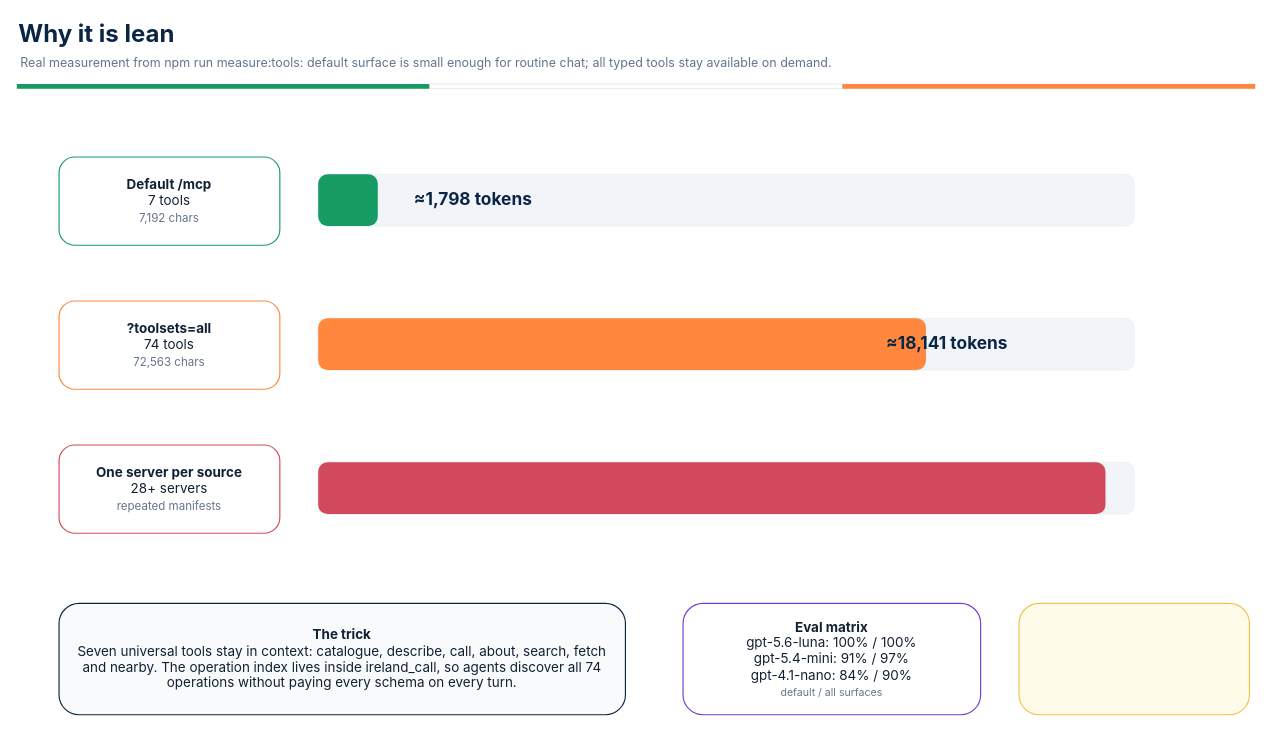
This 1271x732 diagram has some shape labels left out. Here are the shapes that lost their labels. From the top down, the centre of each, then its label:
point 711,488: higher than all-tool cost + routing overhead
point 1134,658: Guardrail CI fails if default tools/list exceeds 16,000 chars.
